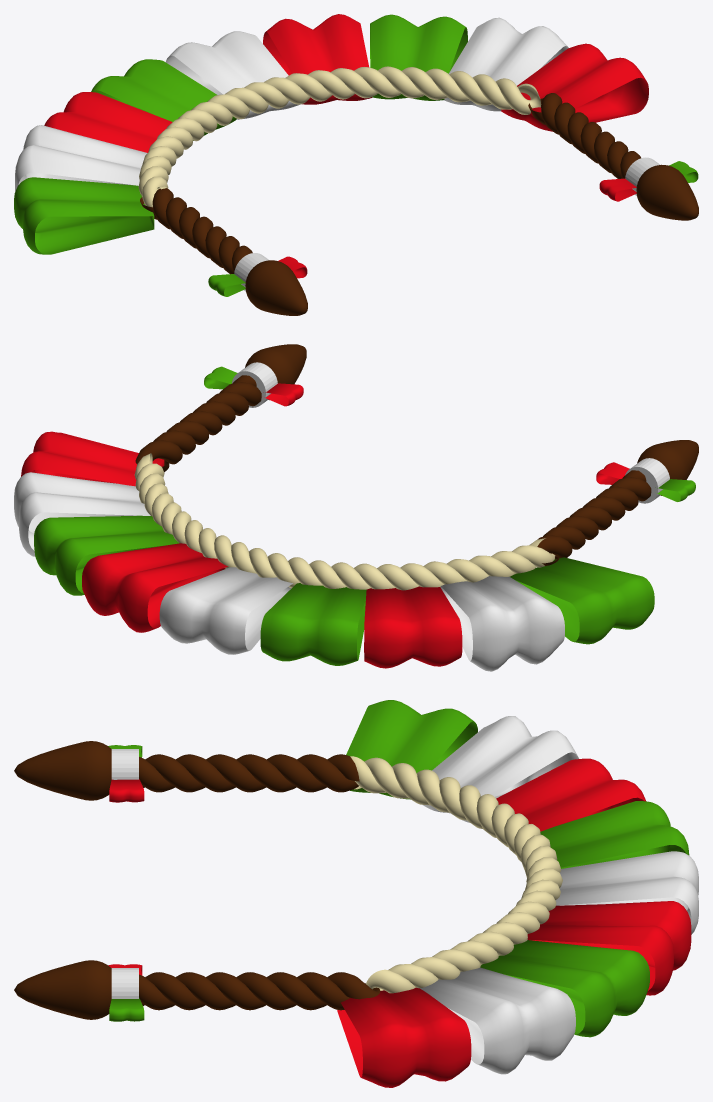
3 views of the same model, one above another, from view 1: azimuth 30°, elevation 25°; view 2: azimuth 150°, elevation 25°; view 3: azimuth 270°, elevation 25° (orthographic). The views are drawn at different scales.
Visible parts, largest first — view 1: BézierCircle, Cube.011, Cube.012, Cube.002, Cube.005, Cube.004, Cube, Cube.006, Cube.001, Cube.003, BézierCircle.002, BézierCircle.003 (+6 smaller); view 2: BézierCircle, Cube.002, Cube, Cube.005, Cube.011, Cube.001, Cube.003, Cube.006, Cube.004, Cube.012, BézierCircle.002, BézierCircle.003 (+8 smaller); view 3: BézierCircle, Cube.012, Cube.004, Cube.006, Cube.005, BézierCircle.002, BézierCircle.003, Cube.002, Cube, Cube.011, Cube.001, Cube.003 (+6 smaller).
Boxes of the visible parts, box(x1,y1,x2,y2) form: BézierCircle: box(138, 66, 541, 207); Cube.011: box(14, 177, 154, 254); Cube.012: box(501, 43, 648, 131); Cube.002: box(15, 125, 147, 191); Cube.005: box(263, 14, 372, 104); Cube.004: box(443, 17, 568, 111); Cube: box(165, 31, 300, 119); Cube.006: box(370, 14, 467, 100); Cube.001: box(91, 59, 236, 140); Cube.003: box(44, 92, 172, 152); BézierCircle.002: box(528, 93, 640, 178); BézierCircle.003: box(140, 188, 252, 274); BézierCircle: box(134, 453, 555, 590); Cube.002: box(440, 576, 564, 671); Cube: box(159, 567, 292, 654); Cube.005: box(82, 543, 227, 632); Cube.011: box(510, 557, 654, 644); Cube.001: box(260, 583, 366, 665); Cube.003: box(364, 586, 462, 668); Cube.006: box(34, 515, 179, 595); Cube.004: box(14, 472, 150, 556); Cube.012: box(21, 431, 164, 486); BézierCircle.002: box(135, 375, 261, 472); BézierCircle.003: box(537, 470, 651, 565); BézierCircle: box(350, 756, 562, 993); Cube.012: box(337, 987, 471, 1087); Cube.004: box(420, 967, 575, 1074); Cube.006: box(480, 940, 649, 1037); Cube.005: box(527, 901, 691, 995); BézierCircle.002: box(139, 972, 380, 1010); BézierCircle.003: box(139, 754, 359, 792); Cube.002: box(422, 716, 578, 822); Cube: box(555, 851, 698, 934); Cube.011: box(346, 700, 477, 799); Cube.001: box(540, 801, 689, 868); Cube.003: box(496, 758, 645, 831).
Size of the model in its own units: 10.1 by 1.1 by 8.52.
